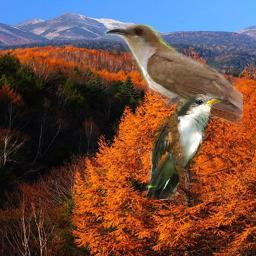Cuckoo: (102, 24, 243, 128), (146, 93, 223, 200)
